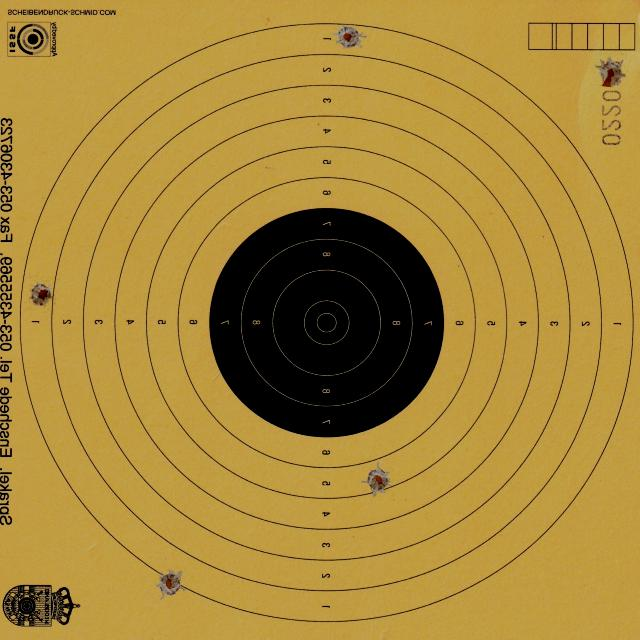0: (592, 56, 626, 88)
1: (334, 24, 363, 52), (153, 570, 182, 597), (28, 282, 53, 310)
5: (362, 464, 396, 495)
Target: (17, 17, 635, 622)
black_contour: (208, 208, 446, 438)
